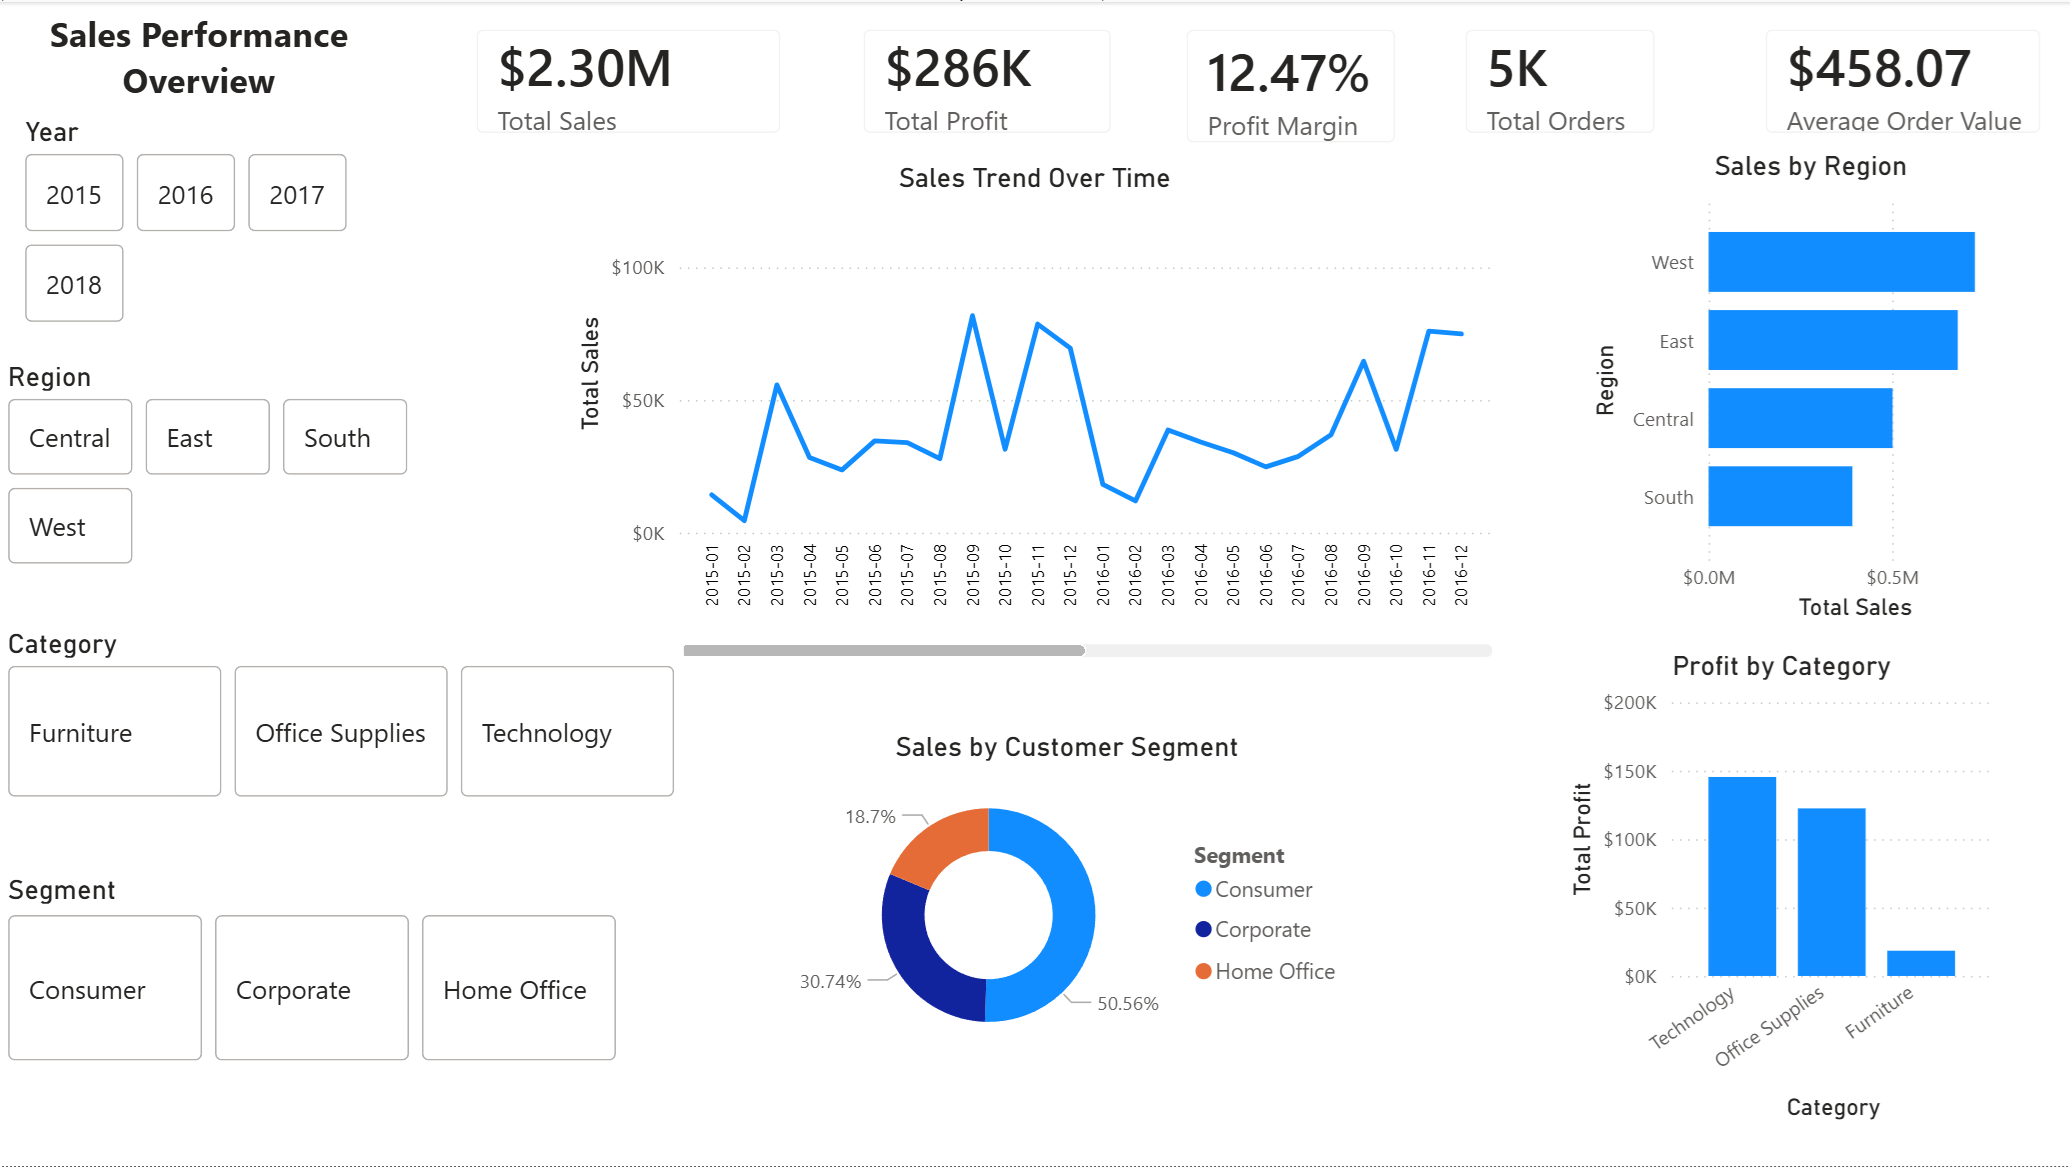

The page's visual inventory and layout, read from the dashboard file:
{"tool":"powerbi","page":{"name":"Sales Performance Overview","canvas":[1280,720],"ordinal":0},"visuals":[{"type":"cardVisual","fields":{"Data":["Measures_.Total Sales"]},"box":[277.5,0,222.5,98.1],"z":0},{"type":"cardVisual","fields":{"Data":["Measures_.Total Profit"]},"box":[516.9,0,187.5,98.1],"z":1000},{"type":"cardVisual","fields":{"Data":["Measures_.Profit Margin"]},"box":[716.9,0,163.1,104.4],"z":2000},{"type":"cardVisual","fields":{"Data":["Measures_.Total Orders"]},"box":[889.4,0,151.9,98.1],"z":3000},{"type":"cardVisual","fields":{"Data":["Measures_.Average Order Value"]},"box":[1075.1,0,204.7,98.4],"z":4000},{"type":"lineChart","title":"Sales Trend Over Time","fields":{"Y":["Measures_.Total Sales"],"Category":["DimDate.Year Month"]},"box":[351.9,98.1,576.2,311.9],"z":5000},{"type":"clusteredBarChart","title":"Sales by Region","fields":{"Category":["DimLocation.Region"],"Y":["Measures_.Total Sales"]},"box":[980,90.6,280.6,296.2],"z":6000},{"type":"clusteredColumnChart","title":"Profit by Category","fields":{"Category":["DimProduct.Category"],"Y":["Measures_.Total Profit"]},"box":[965.6,400,273.1,296.2],"z":7000},{"type":"donutChart","title":"Sales by Customer Segment","fields":{"Category":["DimCustomer.Segment"],"Y":["Measures_.Total Sales"]},"box":[479.4,450,361.2,210],"z":8000},{"type":"advancedSlicerVisual","fields":{"Values":["DimDate.Year"]},"box":[10.6,70,210,133.1],"z":9000},{"type":"advancedSlicerVisual","fields":{"Values":["DimLocation.Region"]},"box":[0,221.2,258.8,131.9],"z":10000},{"type":"advancedSlicerVisual","fields":{"Values":["DimProduct.Category"]},"box":[0,386.9,423.1,110.6],"z":11000},{"type":"advancedSlicerVisual","fields":{"Values":["DimCustomer.Segment"]},"box":[0,538.8,388.8,121.2],"z":12000},{"type":"textbox","box":[0,0,246.2,70],"z":13000}]}

Visuals, with their boxes in screenshot pixels (x1, y1, x2, y2), scaled from the page's 1280x720 canvas onto the 2070x1167 screenshot:
cardVisual - Measures_.Total Sales: bbox=[449, 0, 809, 159]
cardVisual - Measures_.Total Profit: bbox=[836, 0, 1139, 159]
cardVisual - Measures_.Profit Margin: bbox=[1159, 0, 1423, 169]
cardVisual - Measures_.Total Orders: bbox=[1438, 0, 1684, 159]
cardVisual - Measures_.Average Order Value: bbox=[1739, 0, 2069, 159]
"Sales Trend Over Time" lineChart: bbox=[569, 159, 1501, 665]
"Sales by Region" clusteredBarChart: bbox=[1585, 147, 2039, 627]
"Profit by Category" clusteredColumnChart: bbox=[1562, 648, 2003, 1128]
"Sales by Customer Segment" donutChart: bbox=[775, 729, 1359, 1070]
advancedSlicerVisual - DimDate.Year: bbox=[17, 113, 357, 329]
advancedSlicerVisual - DimLocation.Region: bbox=[0, 359, 419, 572]
advancedSlicerVisual - DimProduct.Category: bbox=[0, 627, 684, 806]
advancedSlicerVisual - DimCustomer.Segment: bbox=[0, 873, 629, 1070]
textbox: bbox=[0, 0, 398, 113]
